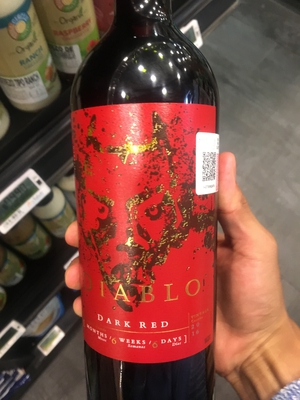diablo dark red: (69, 12, 218, 400)
